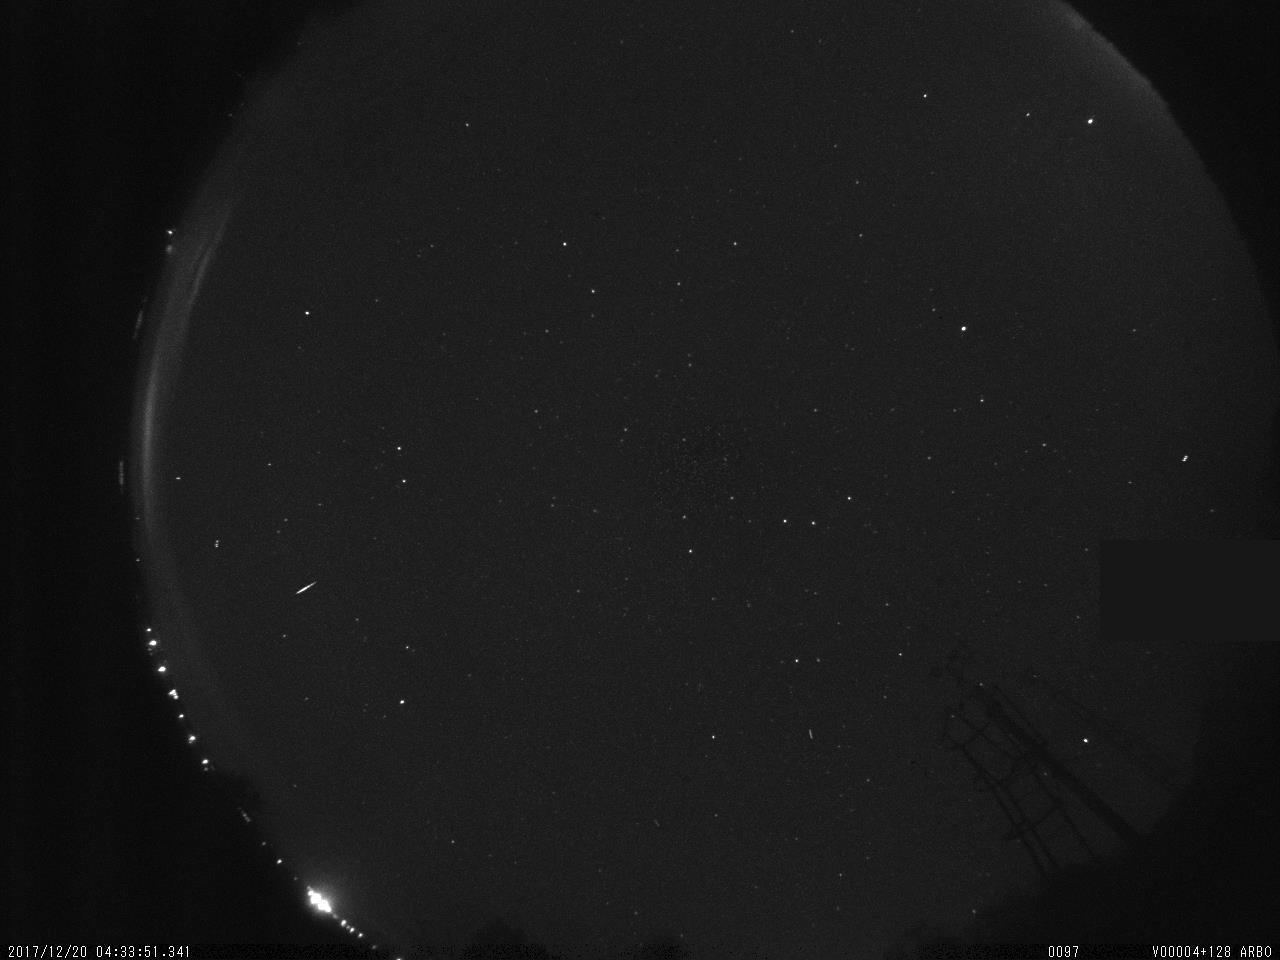meteor: (286, 577, 322, 601)
